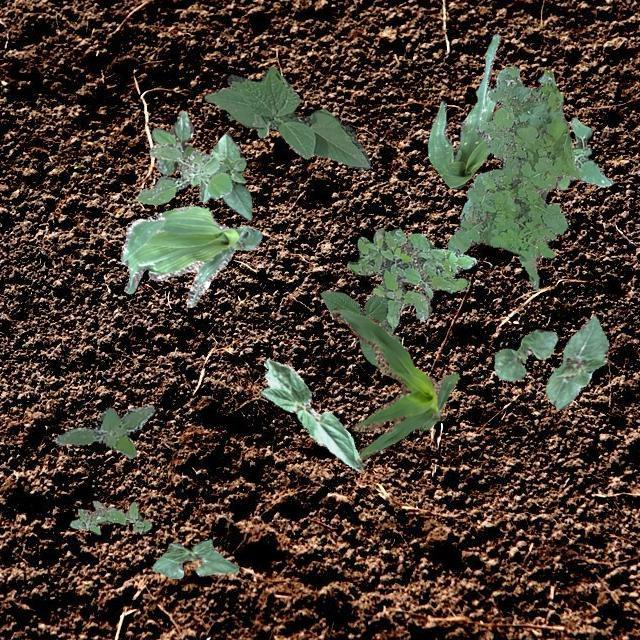crop: (330, 306, 458, 458), (204, 66, 368, 168), (120, 204, 262, 306), (260, 358, 362, 470), (426, 32, 499, 188), (320, 290, 400, 366), (544, 316, 608, 408), (152, 538, 238, 578), (210, 132, 250, 218), (494, 328, 556, 379), (256, 120, 276, 136)
weed: (446, 64, 580, 290), (346, 228, 476, 328), (134, 142, 230, 204), (53, 404, 154, 456), (556, 118, 612, 188), (150, 110, 196, 174), (70, 499, 150, 534)
